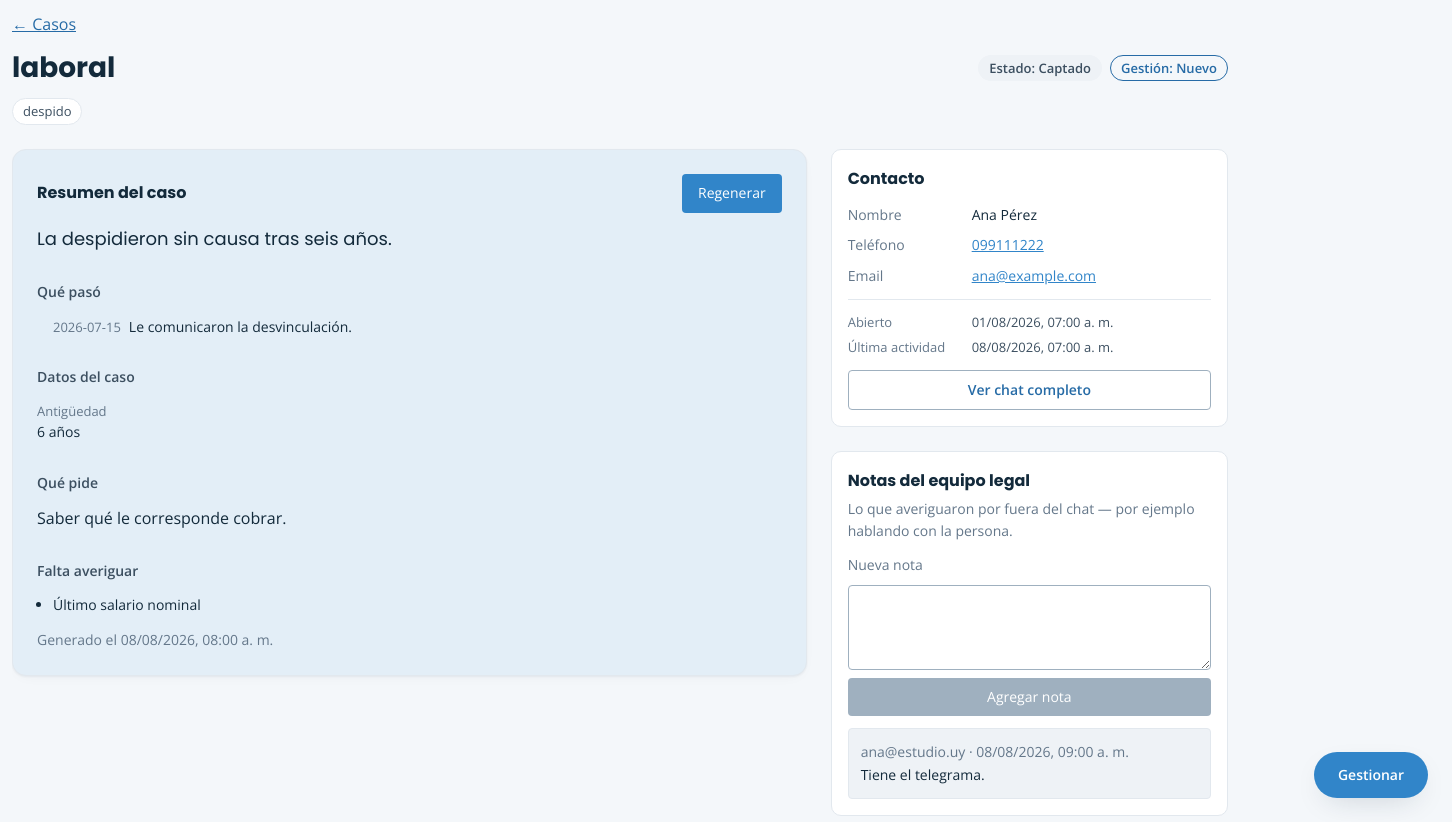
Test: DetalleCaso › si el POST de nota responde no-ok, se muestra el aviso de fallo
In the text box labelled "Nueva nota": (1029, 627) 848,585 -> 1211,670, type "Habló con el testigo"
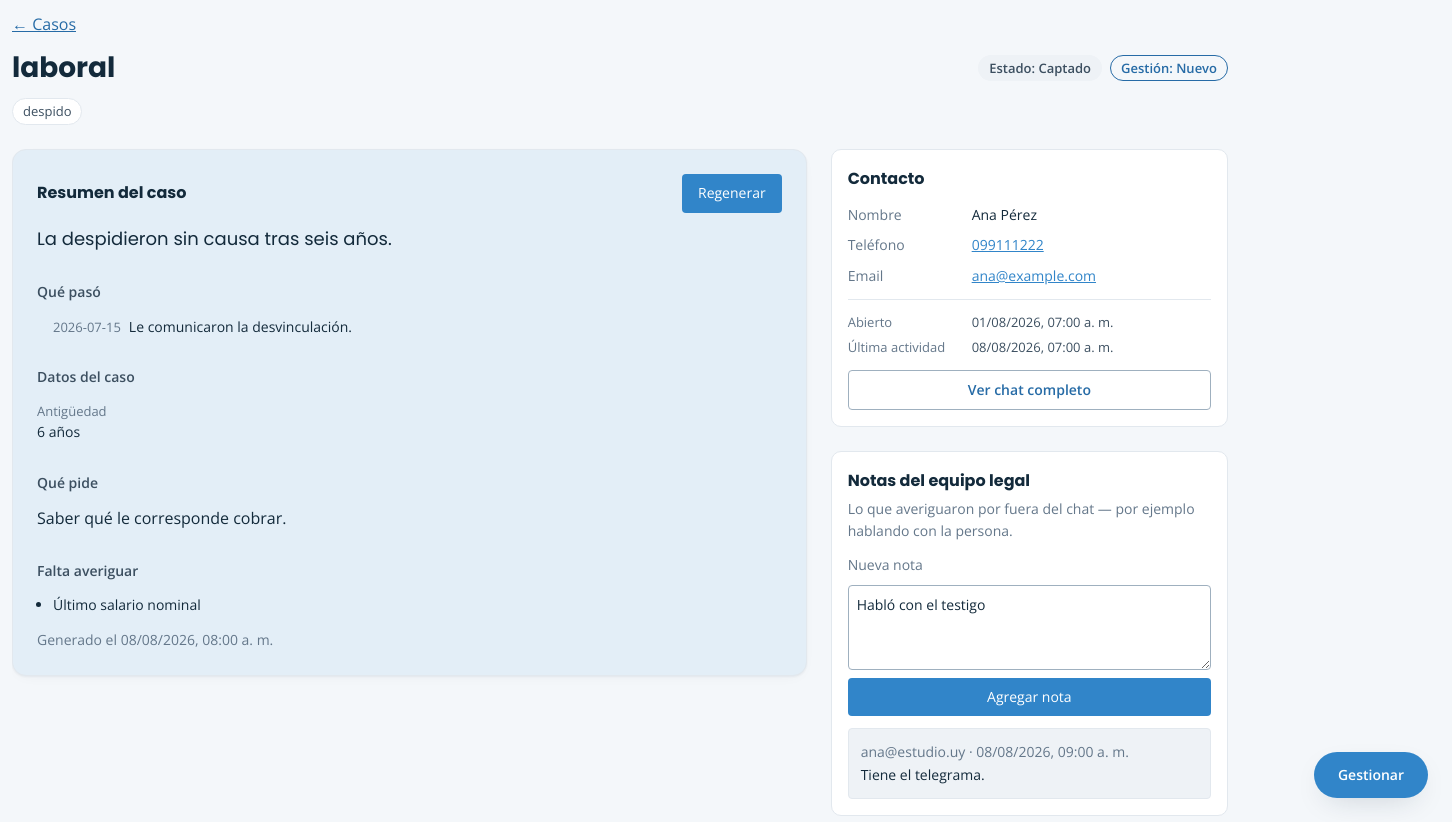
Click the button "Agregar nota": (1029, 697) 848,678 -> 1211,716
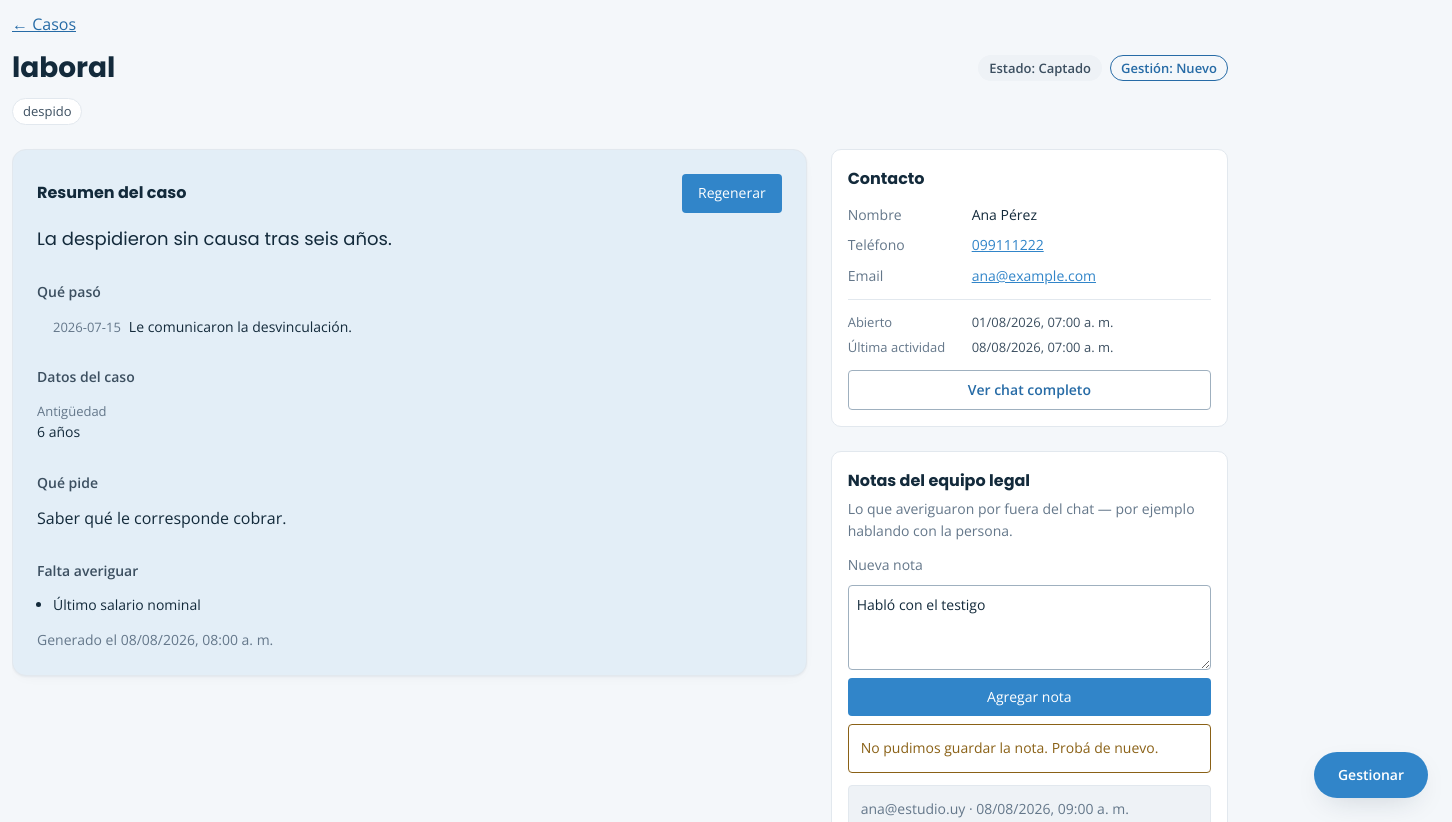
Result: the text "No pudimos guardar la nota. Probá de nuevo." is shown at 848,724 -> 1211,773
